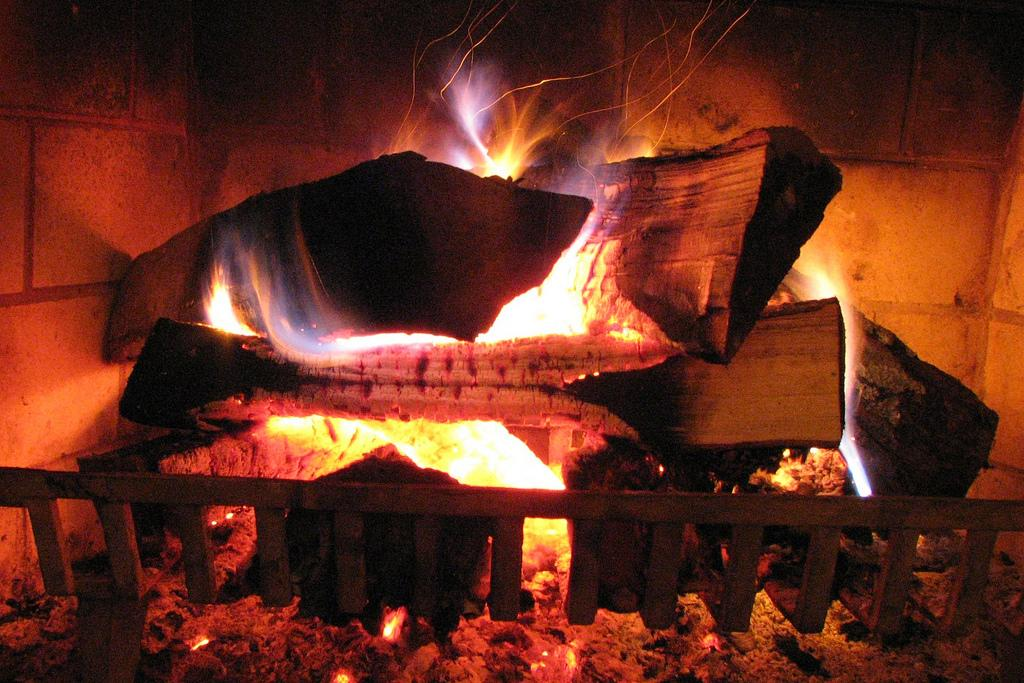fire: (427, 425, 530, 488), (512, 288, 573, 345), (307, 335, 408, 350)
